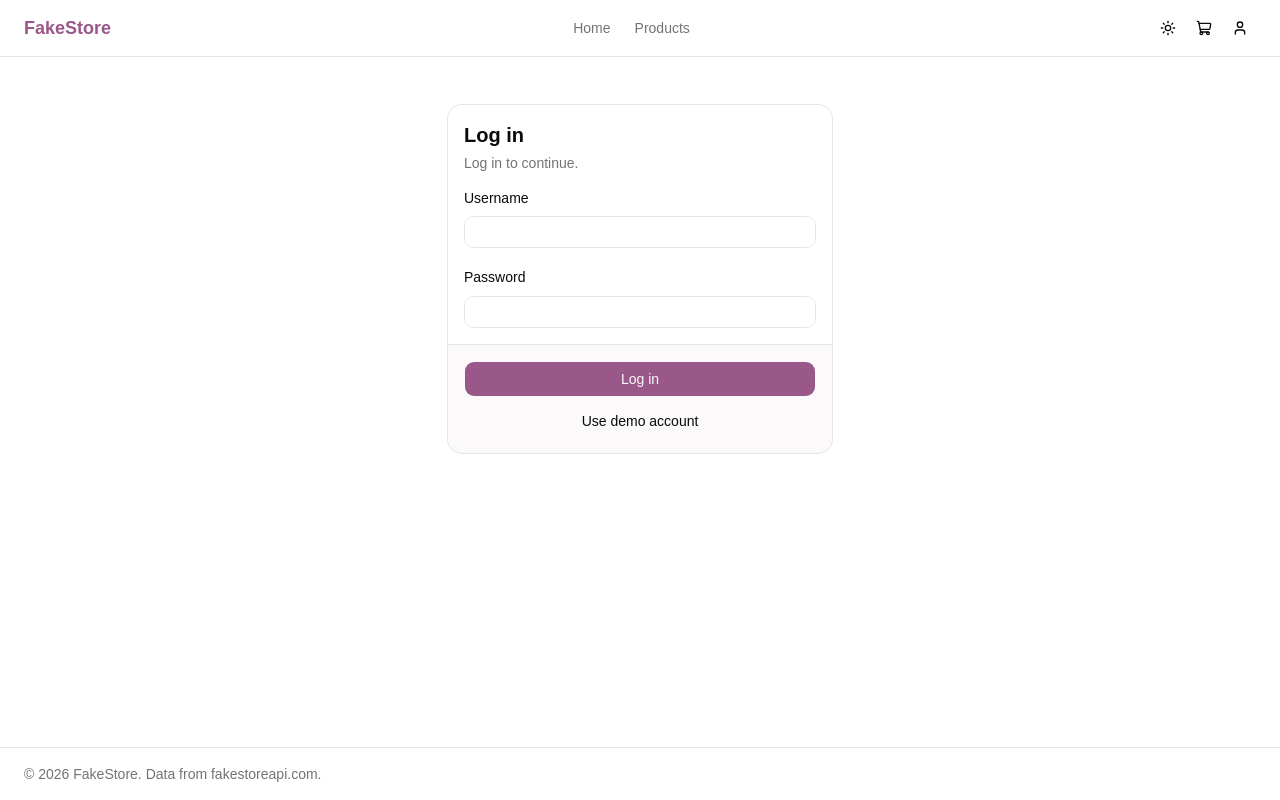
Test: LoginPage › logs in and redirects to `next`
Expected: the text "Log in to continue." is shown, [464,155,578,171]
In the field labelled "Username": (640, 232) [464,216,816,248], type "mor_2314"
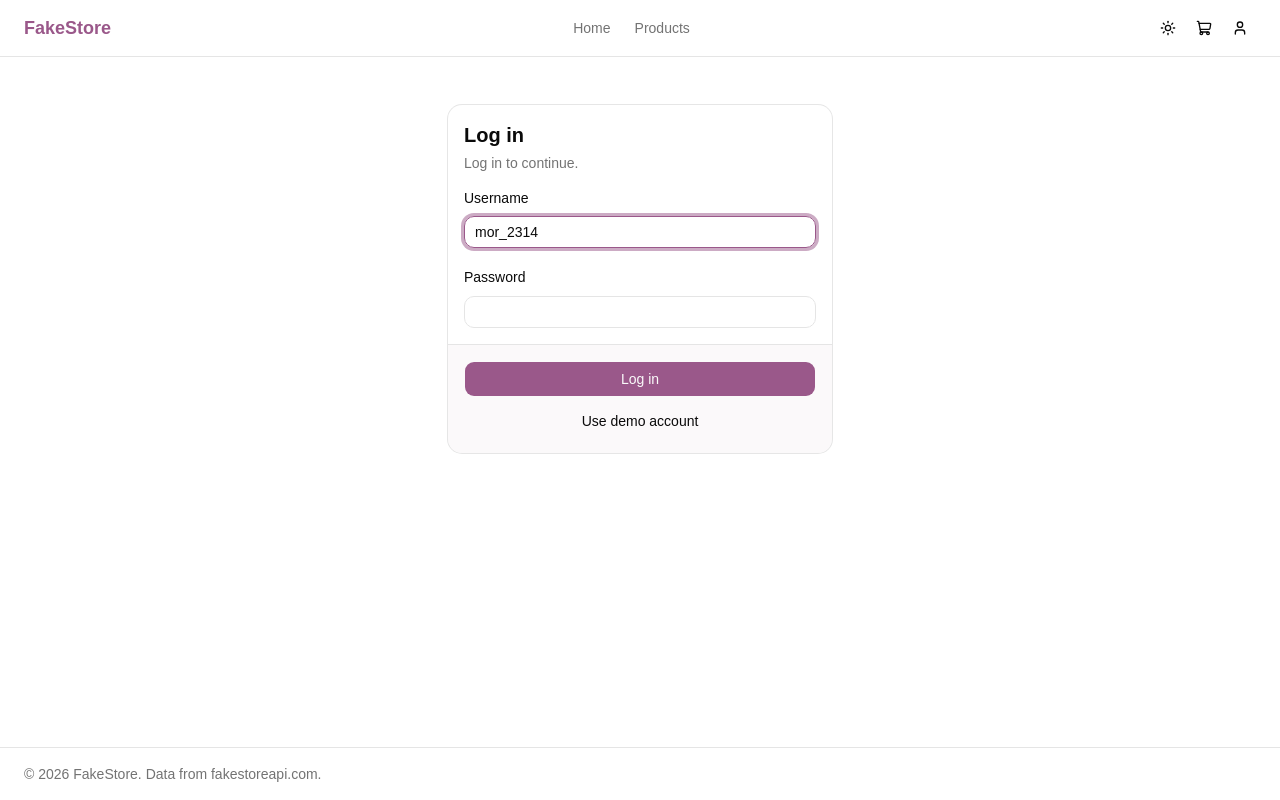
In the password field labelled "Password": (640, 312) [464,296,816,328], type "83r5^_"
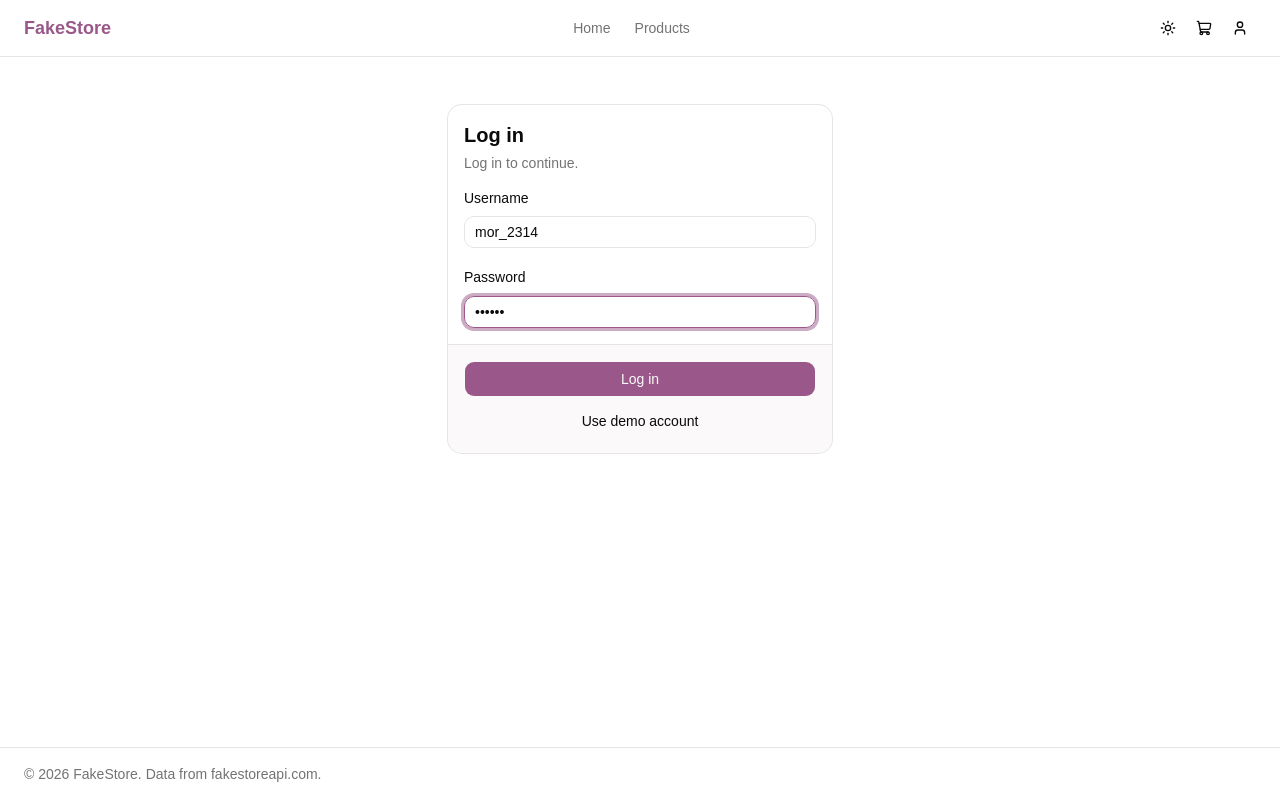
Click the button "Log in": (640, 378) [464,360,816,396]
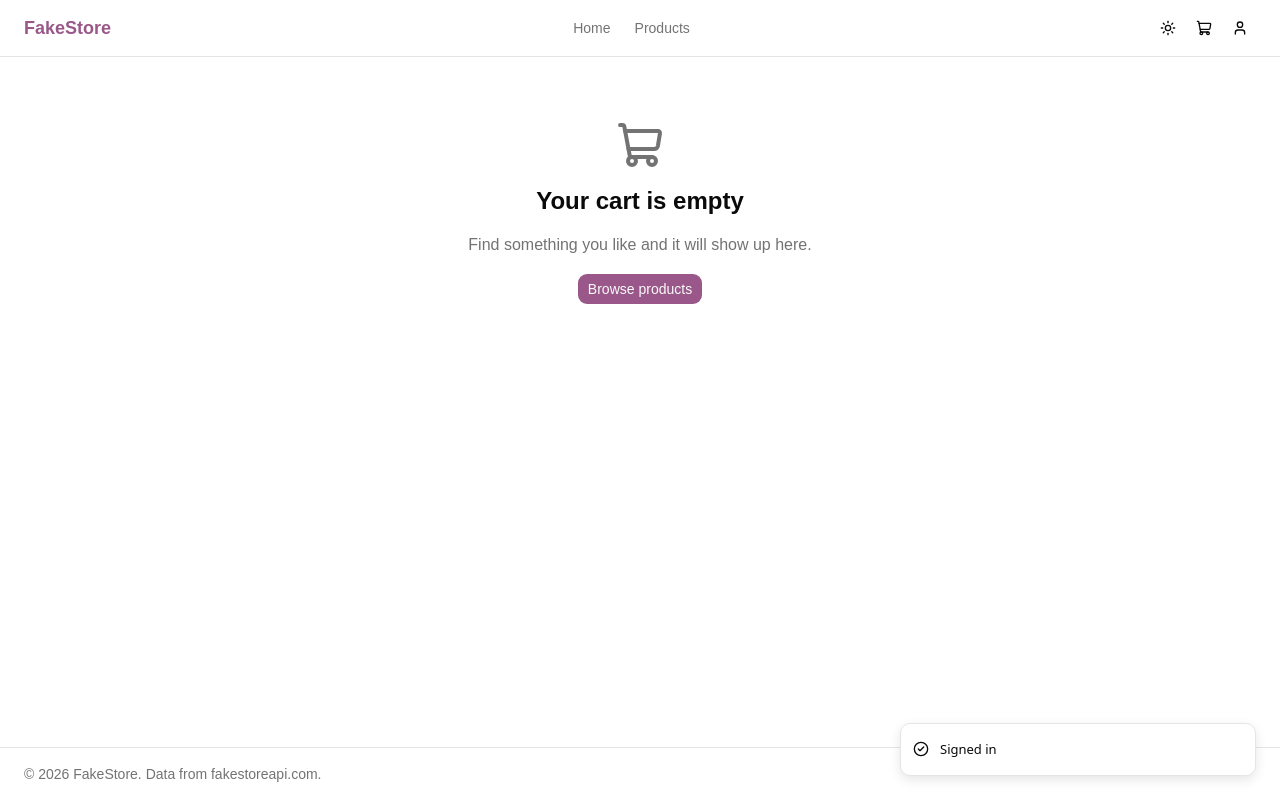
Expected: the heading "Your cart is empty" is shown, [536,185,744,217]
